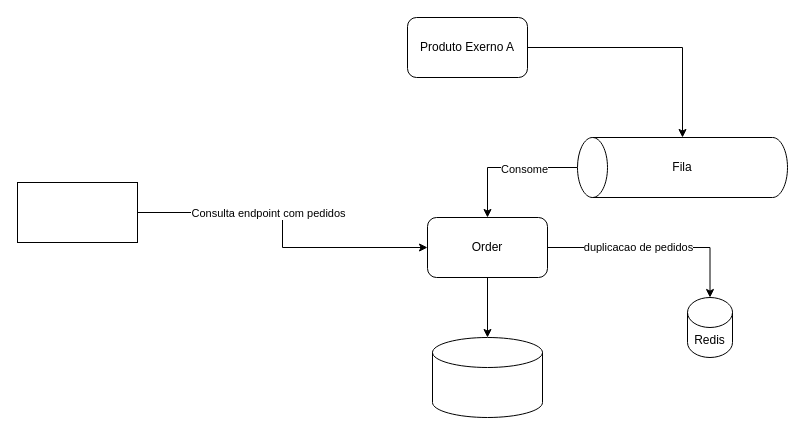
This 805x435 diagram has some shape labels left out. Each missing label, with the centre of its shape:
"Mysql" goes at (487,377).
"Produto Externo B" goes at (77,212).
